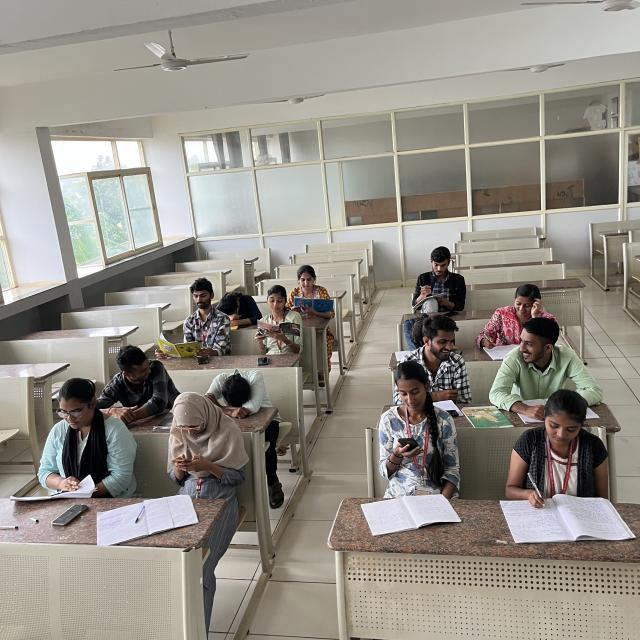Reading: (6, 376, 133, 503), (142, 286, 239, 363), (287, 263, 359, 334), (250, 283, 317, 357)
Sleeping: (198, 366, 301, 428), (204, 270, 272, 329), (393, 312, 457, 353)
Using Phone: (352, 369, 468, 481), (155, 392, 247, 496)
Writing: (503, 397, 611, 535), (472, 287, 564, 363), (396, 250, 476, 307)
